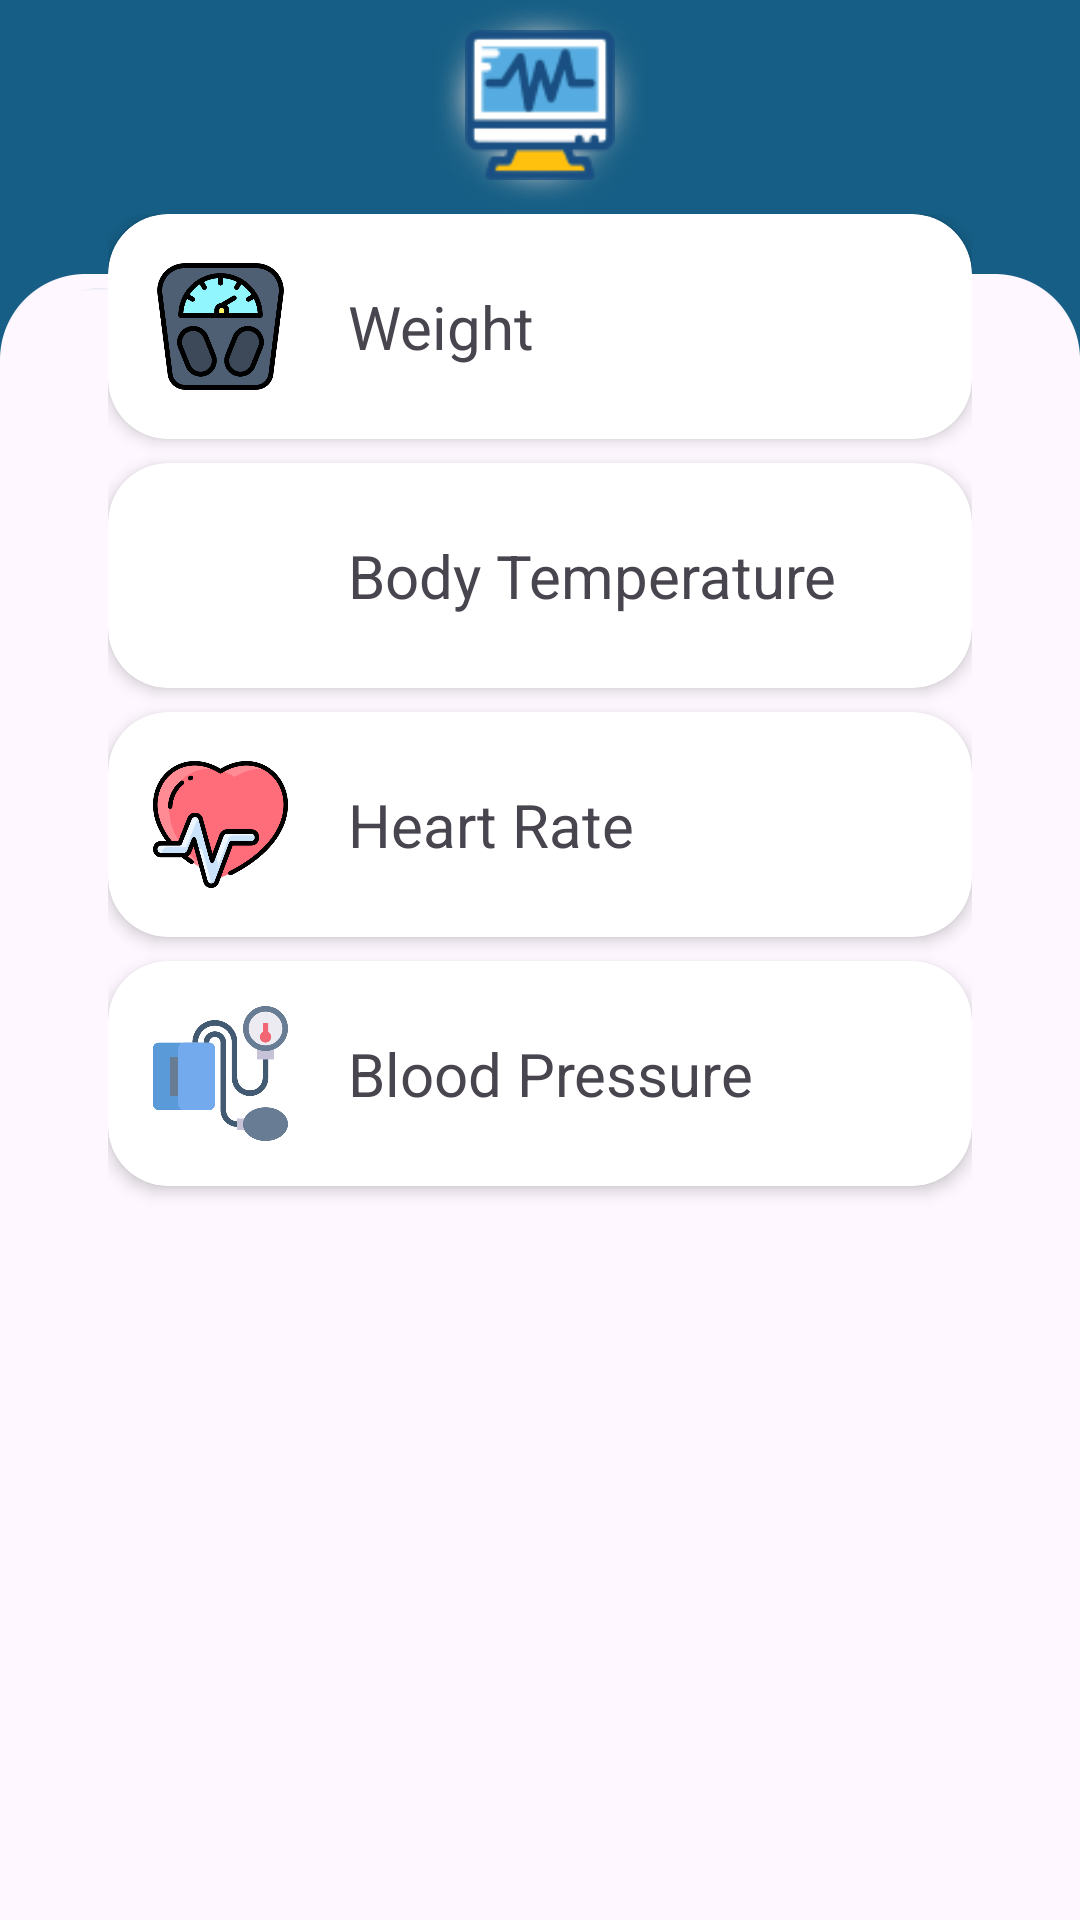

Point at icon controls on the screen. Image size 1080×1920, points as (x,y).
heartbeat: (220,824)
vitals: (539,104)
